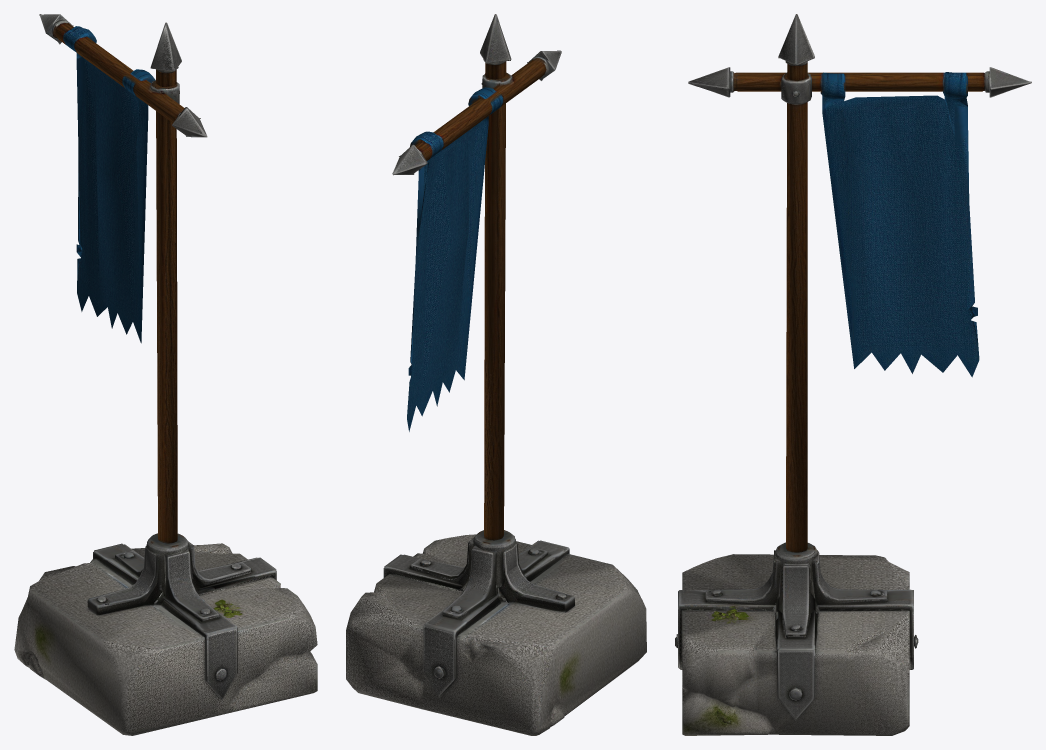
File: tripo_convert_af710e56-960f-4661-a9cb-dd0f1bc14908.fbx
3 renders of one model, left to right at view 1: azimuth 30°, elevation 25°; view 2: azimuth 150°, elevation 25°; view 3: azimuth 270°, elevation 25°, orthographic. The views are drawn at different scales.
Visible parts, largest first — view 1: tripo_node_af710e56; view 2: tripo_node_af710e56; view 3: tripo_node_af710e56.
Boxes of the visible parts, x1,y1,x2,y2 form: tripo_node_af710e56: [14, 14, 317, 735]; tripo_node_af710e56: [346, 14, 646, 735]; tripo_node_af710e56: [675, 14, 1031, 735].
Bounding box in the file's own units: 0.3223 × 0.998 × 0.4785.
Materials: 1 (1 with a texture image).
